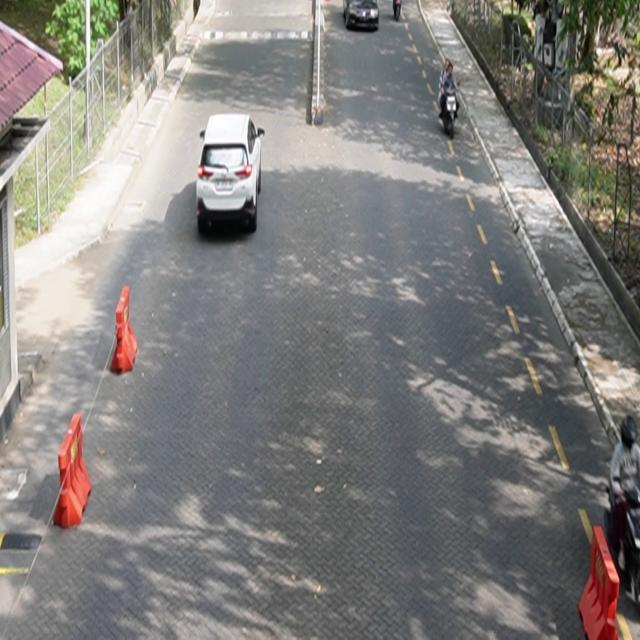car: (197, 113, 266, 235), (344, 1, 380, 31)
